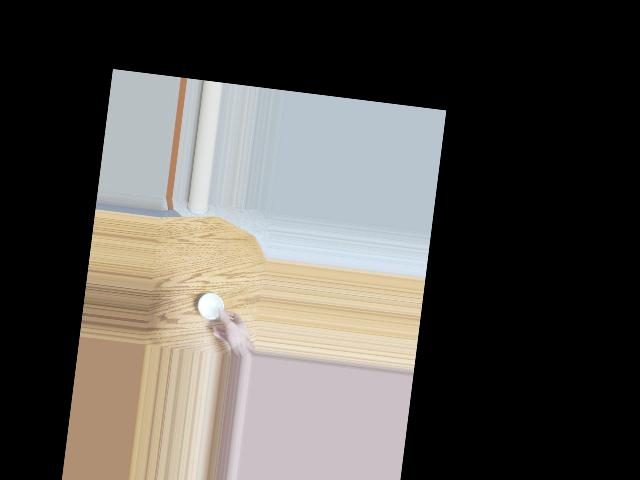cotage: (196, 289, 226, 320)
